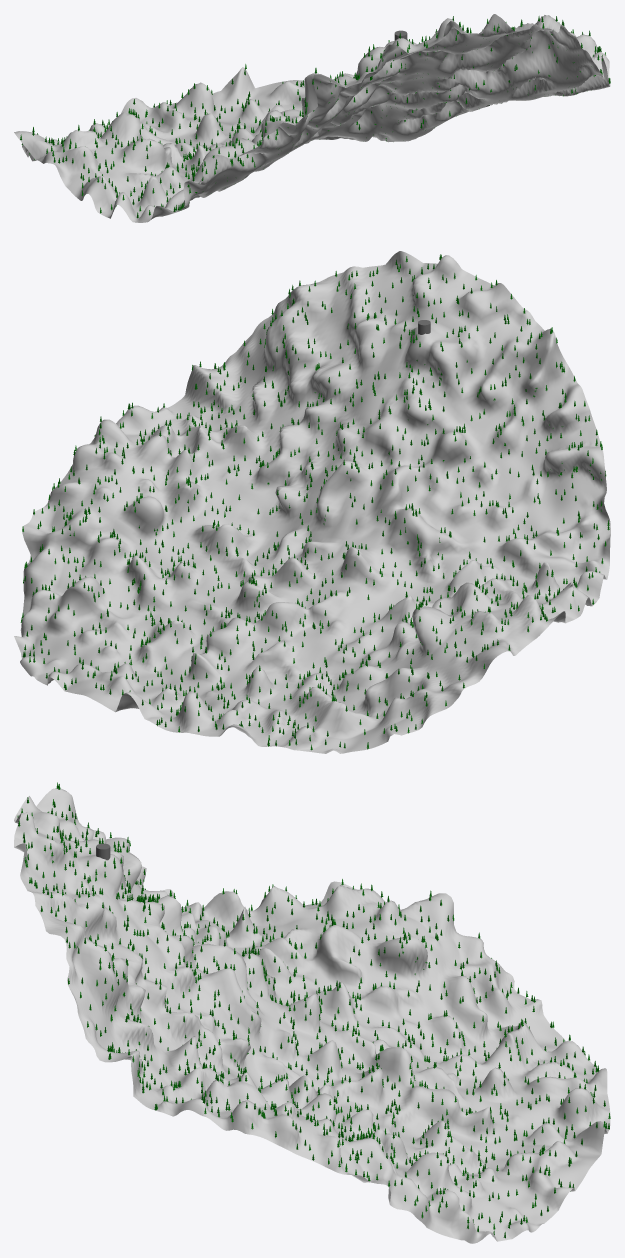
Rendered from Forest_Mountain_V_0_2.fbx.
The picture shows the model from 3 angles, top to bottom: view 1: azimuth 30°, elevation 25°; view 2: azimuth 150°, elevation 25°; view 3: azimuth 270°, elevation 25°; orthographic projection. The views are drawn at different scales.
Visible parts, largest first — view 1: Plane; view 2: Plane; view 3: Plane.
Part boxes in pixels (<box>): Plane: <box>14,14,610,222</box>; Plane: <box>14,251,610,753</box>; Plane: <box>14,782,610,1243</box>.
Bounding box in the file's own units: 371 × 202 × 339.
